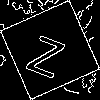Z: (25, 25, 70, 79)
